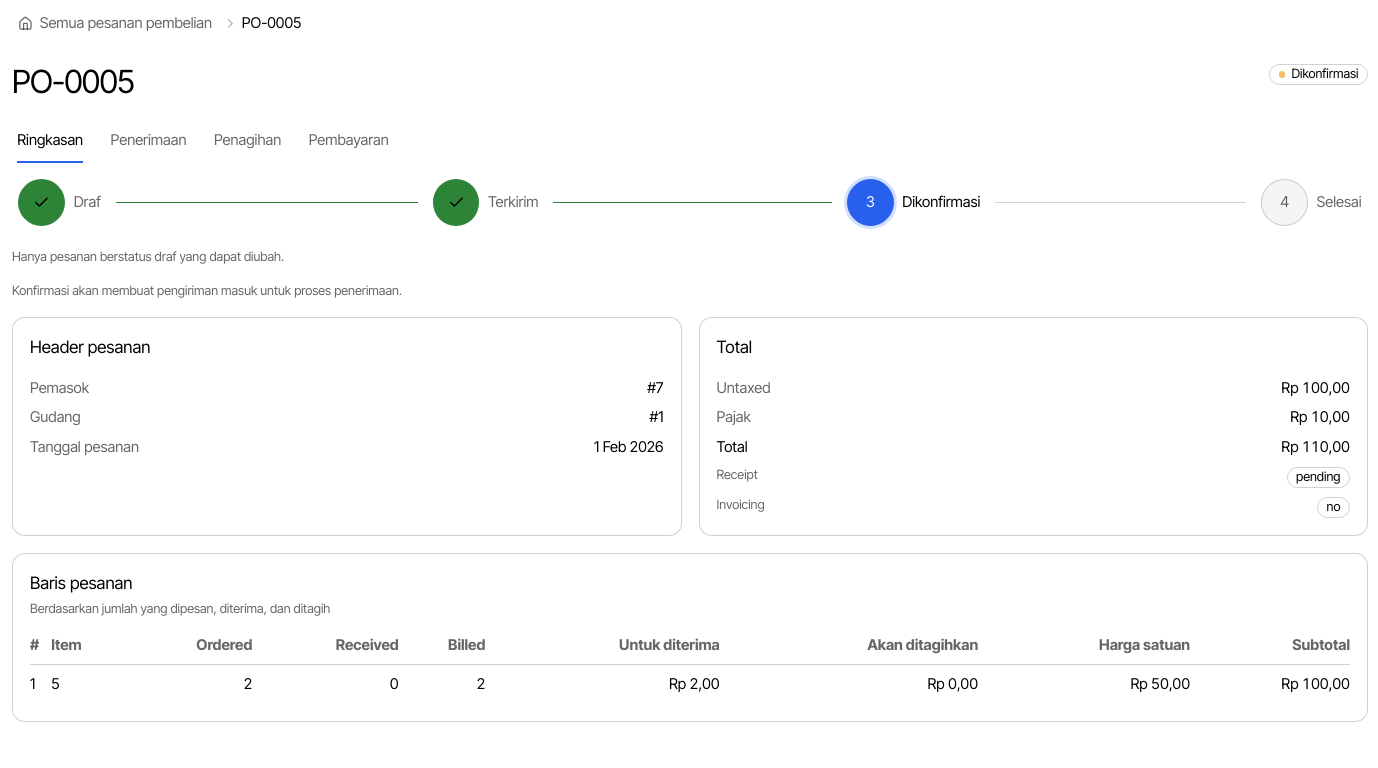
Test: PurchaseOrderDetail extra › disables billing when every line is fully billed
Click the tab "Penagihan" at x=248, y=141, box [213,117,282,164]
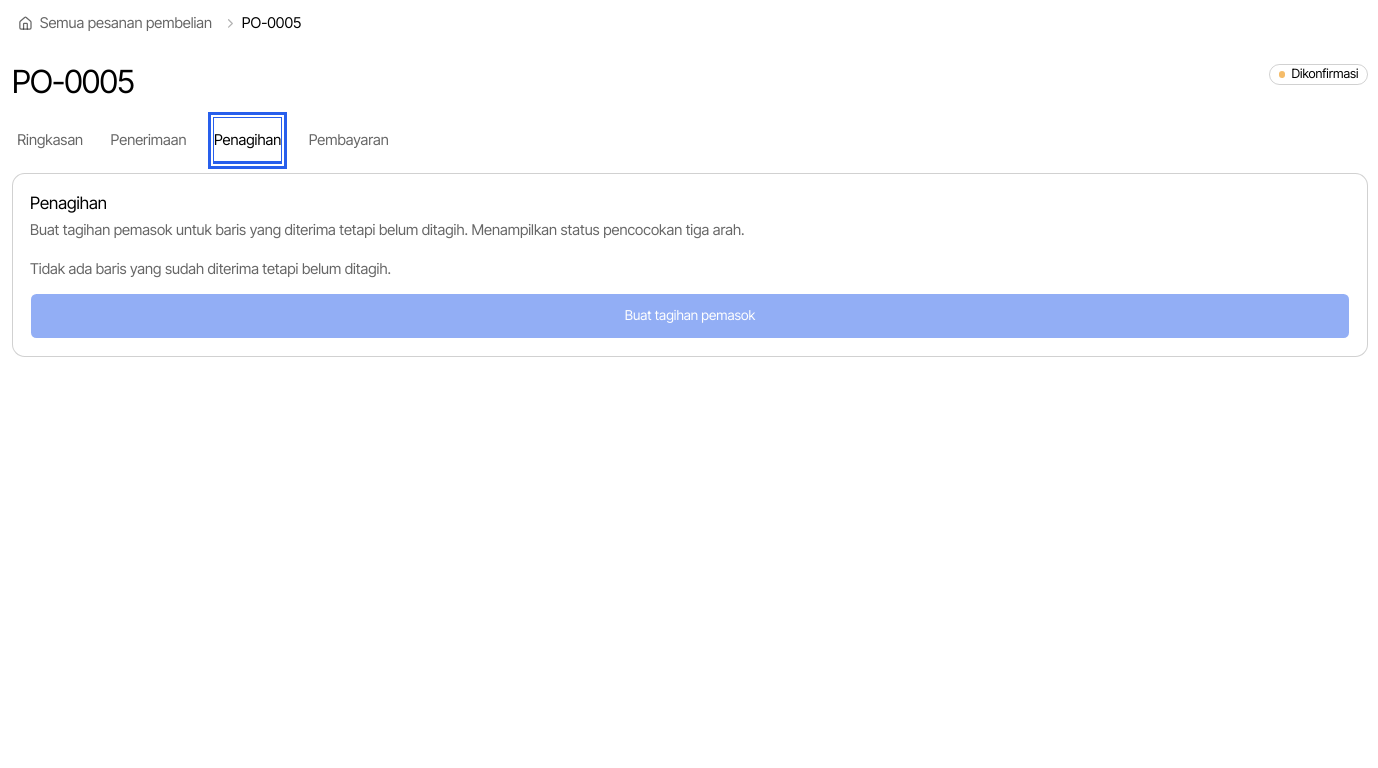
Expected: the text "Tidak ada baris yang sudah diterima tetapi belum ditagih." is shown, [30,260,391,278]
Expected: the button "Buat tagihan pemasok" is disabled, [30,293,1350,340]
